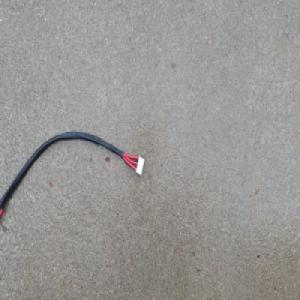Wire: (0, 130, 145, 221)
